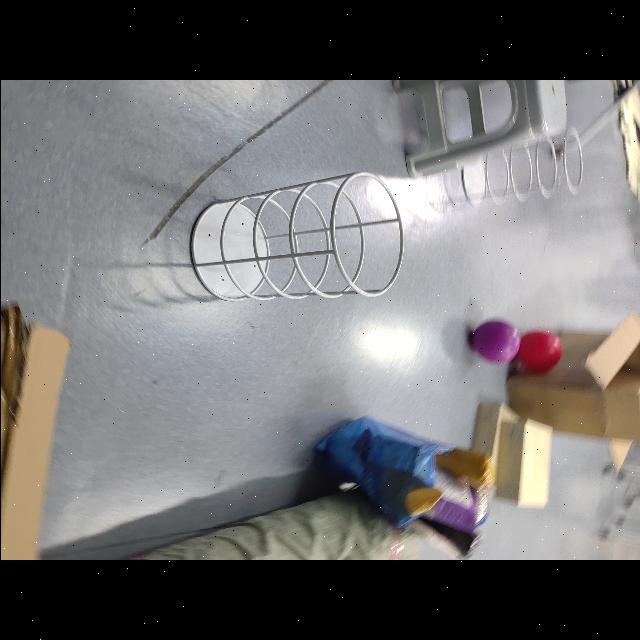S: (185, 168, 407, 304)
